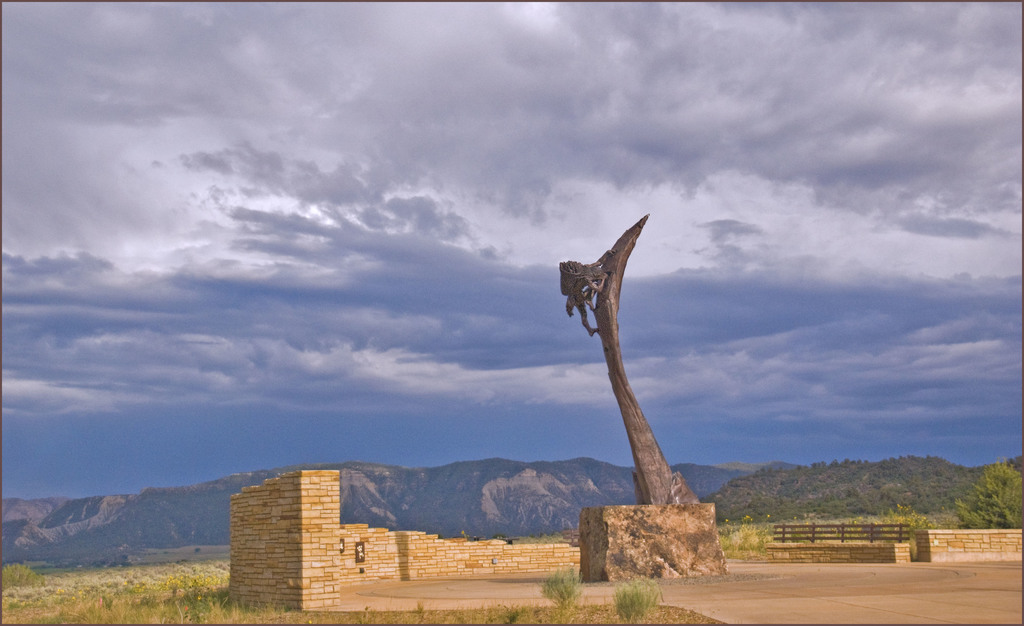Tree: (0, 505, 231, 563), (712, 489, 885, 522), (949, 457, 1023, 529)
